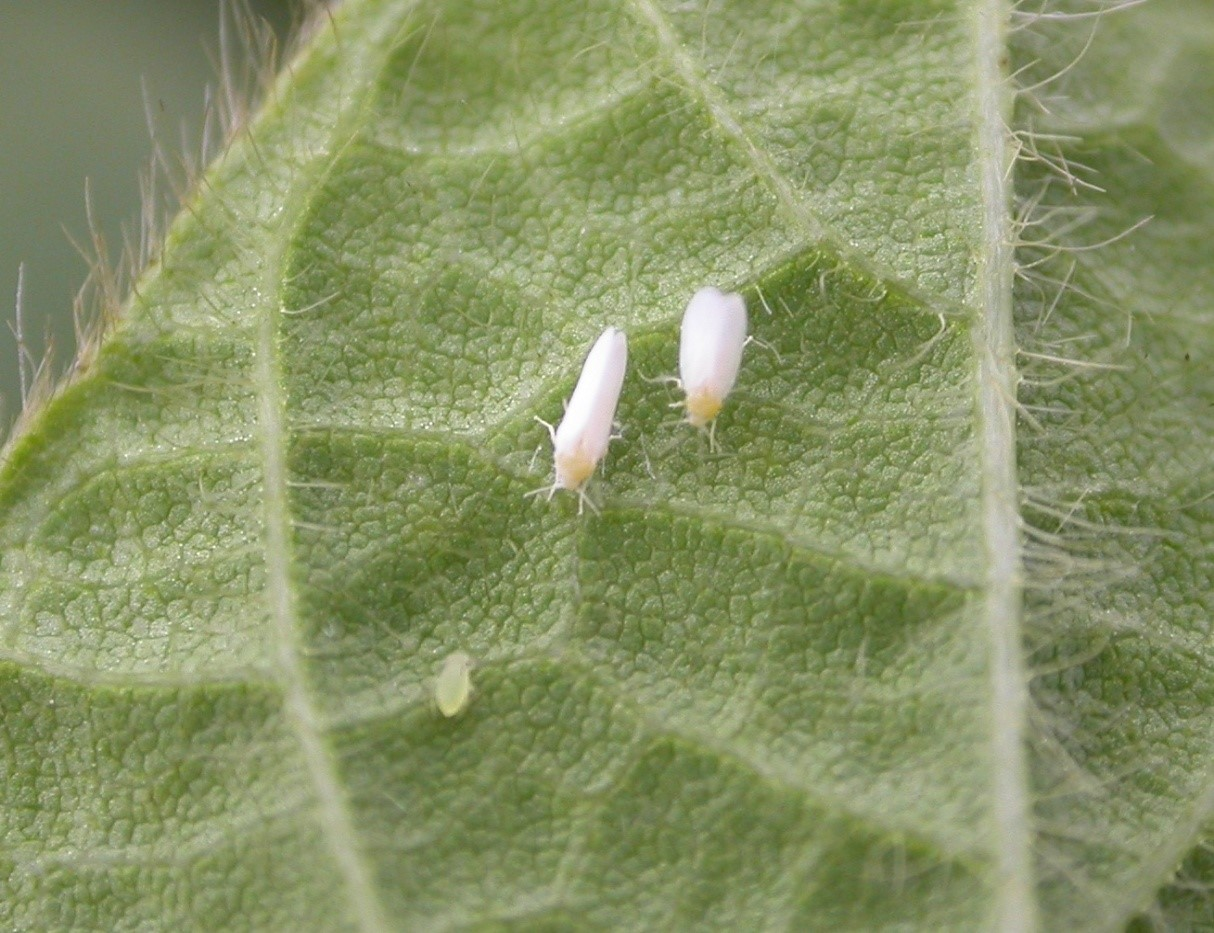Tobacco Whitefly: (508, 279, 659, 539), (666, 237, 752, 503)
